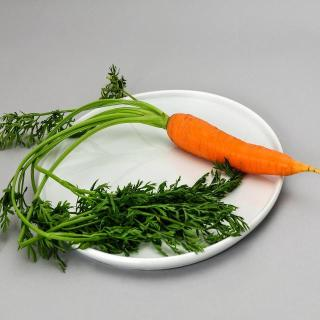carrot: (167, 111, 320, 178)
